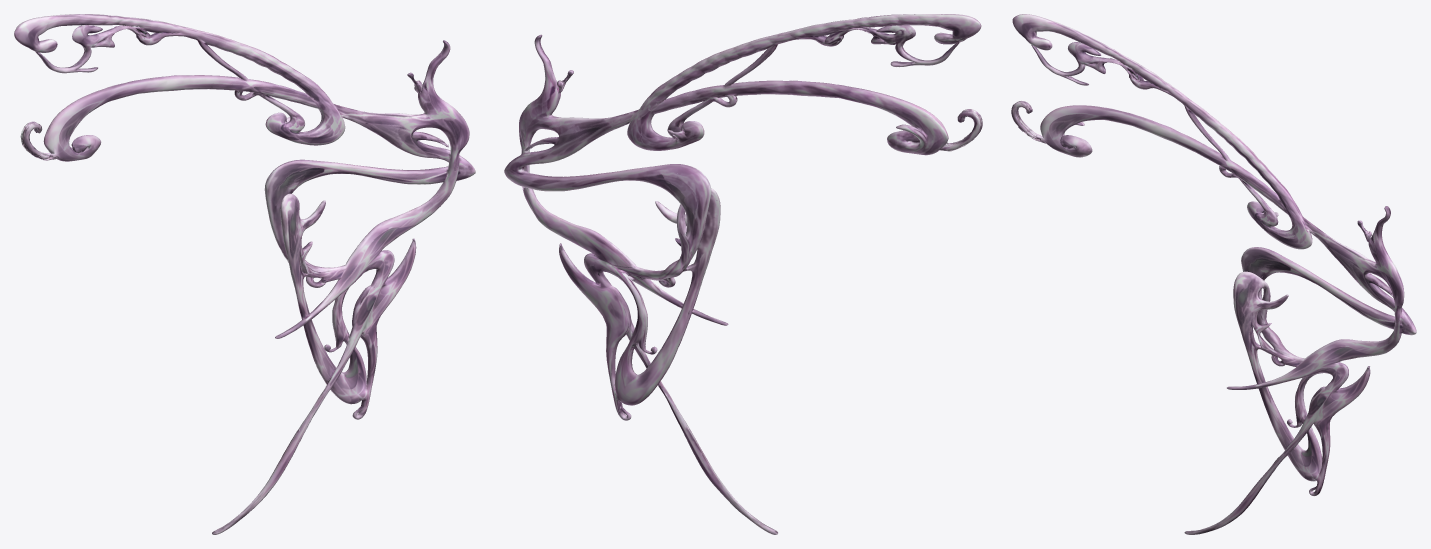
The model's file is reach.glb.
The picture shows the model from 3 angles, left to right: view 1: azimuth 30°, elevation 25°; view 2: azimuth 150°, elevation 25°; view 3: azimuth 330°, elevation 25°; orthographic projection. The views are drawn at different scales.
Parts seen in each view (by area): view 1: tripo_node_459e80d5-de84-4231-8570-c1612d61c555; view 2: tripo_node_459e80d5-de84-4231-8570-c1612d61c555; view 3: tripo_node_459e80d5-de84-4231-8570-c1612d61c555.
Part boxes in pixels (x1,y1,x2,y2): tripo_node_459e80d5-de84-4231-8570-c1612d61c555: (14, 14, 475, 534); tripo_node_459e80d5-de84-4231-8570-c1612d61c555: (504, 14, 982, 534); tripo_node_459e80d5-de84-4231-8570-c1612d61c555: (1011, 14, 1416, 534).
Bounding box in the file's own units: 0.8538 × 0.9794 × 0.0725.
Materials: 1 (1 with a texture image).
